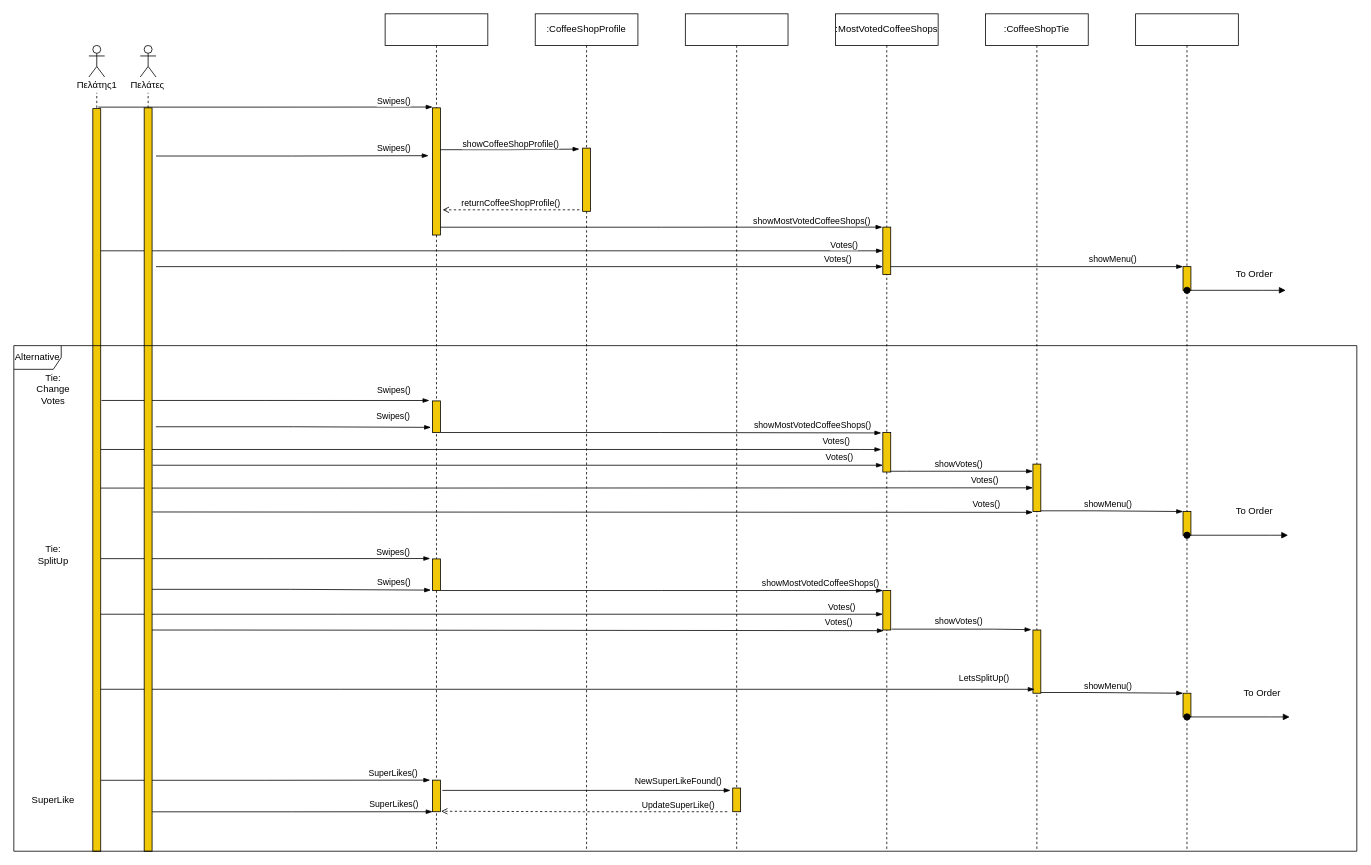
This 1371x865 diagram has some shape labels left out. Each missing label, with the box of its shape:
:Menu: (1135, 13, 1238, 851)
:NewSuperLikeFound: (685, 13, 788, 851)
:randomCoffeeShop: (384, 13, 488, 851)
